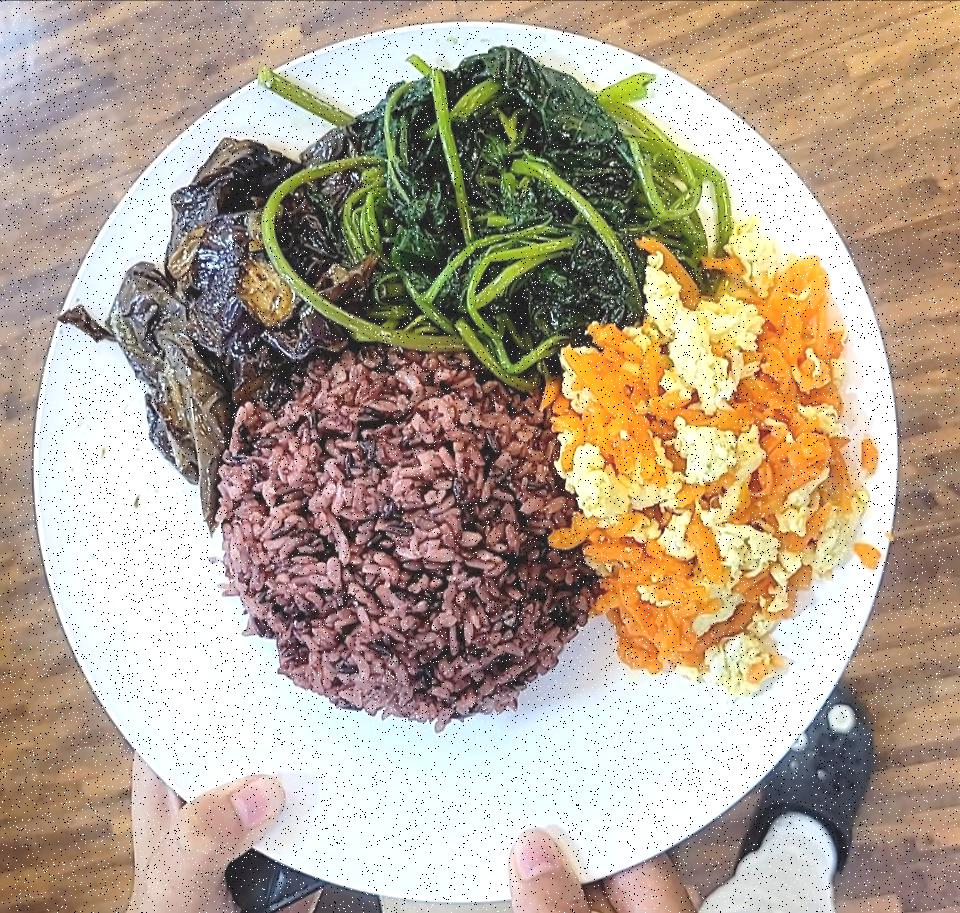plate: (16, 10, 920, 901)
purple rice: (216, 344, 597, 716)
side dish: (274, 46, 734, 358), (558, 236, 868, 679), (111, 124, 318, 526)
